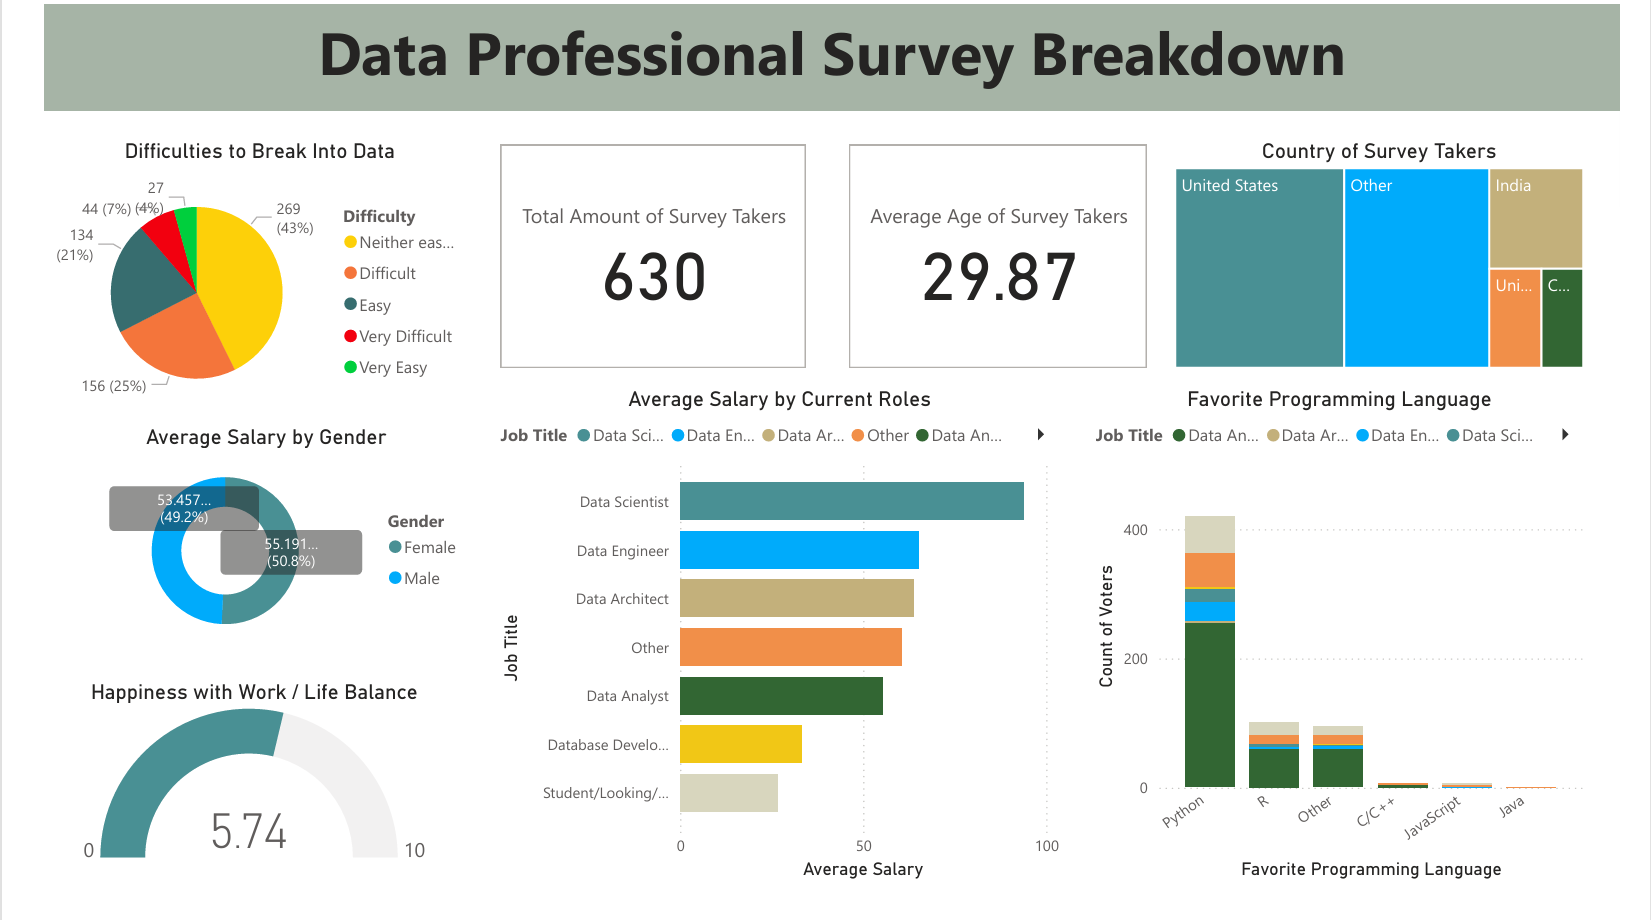

The dashboard page shown, as its layout file describes it:
{"tool":"powerbi","page":{"name":"Page 1","canvas":[1280,720],"ordinal":0},"visuals":[{"type":"textbox","box":[9.6,0,1270.7,86.4],"z":0},{"type":"cardVisual","fields":{"Data":["Count(Data Professional Survey.Unique ID)"]},"box":[373.3,107.9,255.5,190.2],"z":1000},{"type":"cardVisual","fields":{"Data":["Avg(Data Professional Survey.Q10 - Current Age)"]},"box":[654.3,107.9,249.8,190.2],"z":2000},{"type":"barChart","title":"Average Salary by Current Roles","fields":{"Category":["Data Professional Survey.Q1 - Which Title Best Fits your Current Role?.1"],"Y":["Avg(Data Professional Survey.Average Salary)"],"Series":["Data Professional Survey.Q1 - Which Title Best Fits your Current Role?.1"]},"box":[373.3,308,459.9,401.7],"z":3000},{"type":"columnChart","title":"Favorite Programming Language","fields":{"Category":["Data Professional Survey.Q5 - Favorite Programming Language.1"],"Y":["CountNonNull(Data Professional Survey.Unique ID)"],"Series":["Data Professional Survey.Q1 - Which Title Best Fits your Current Role?.1"]},"box":[853.1,308,403.1,401.7],"z":4000},{"type":"treemap","title":"Country of Survey Takers","fields":{"Group":["Data Professional Survey.Q11 - Which Country do you live in?.1"],"Values":["CountNonNull(Data Professional Survey.Q11 - Which Country do you live in?.1)"]},"box":[916.9,107.9,339.2,190.2],"z":5000},{"type":"gauge","title":"Happiness with Work / Life Balance","fields":{"Y":["Avg(Data Professional Survey.Q6 - How Happy are you in your Current Position with the following? (Work/Life Balance))"],"MinValue":["Min(Data Professional Survey.Q6 - How Happy are you in your Current Position with the following? (Work/Life Balance))"],"MaxValue":["Max(Data Professional Survey.Q6 - How Happy are you in your Current Position with the following? (Work/Life Balance))1"]},"box":[19.9,543.6,319.4,154.7],"z":6000},{"type":"donutChart","title":"Average Salary by Gender","fields":{"Category":["Data Professional Survey.Q9 - Male/Female?"],"Y":["Avg(Data Professional Survey.Average Salary)"]},"box":[19.9,337.8,337.8,185.9],"z":7000},{"type":"pieChart","title":"Difficulties to Break Into Data","fields":{"Category":["Data Professional Survey.Q7 - How difficult was it for you to break into Data?"],"Y":["CountNonNull(Data Professional Survey.Q7 - How difficult was it for you to break into Data?)"]},"box":[9.9,107.9,347.8,229.9],"z":8000}]}

Visuals, with their boxes in screenshot pixels (x1, y1, x2, y2), scaled from the page's 1280x720 canvas onto the 1651x920 screenshot:
textbox: <box>12,0,1650,110</box>
cardVisual - Count(Data Professional Survey.Unique ID): <box>481,138,811,381</box>
cardVisual - Avg(Data Professional Survey.Q10 - Current Age): <box>844,138,1166,381</box>
"Average Salary by Current Roles" barChart: <box>481,394,1075,907</box>
"Favorite Programming Language" columnChart: <box>1100,394,1620,907</box>
"Country of Survey Takers" treemap: <box>1183,138,1620,381</box>
"Happiness with Work / Life Balance" gauge: <box>26,695,438,892</box>
"Average Salary by Gender" donutChart: <box>26,432,461,669</box>
"Difficulties to Break Into Data" pieChart: <box>13,138,461,432</box>
